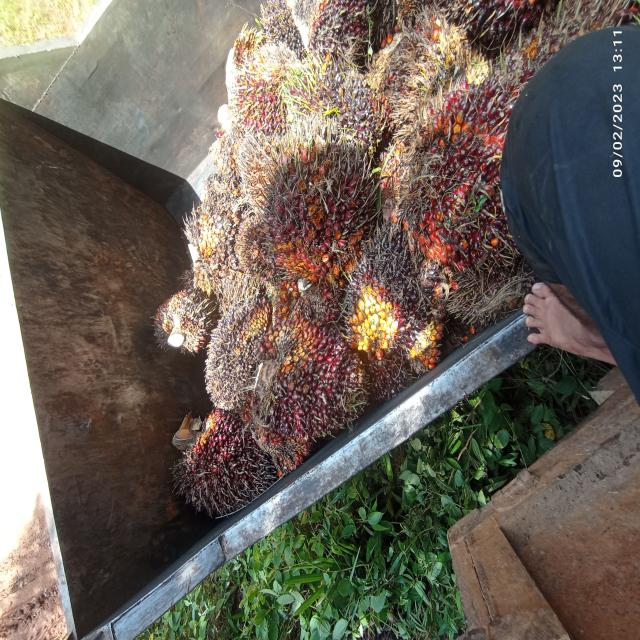fraksi 00: (345, 212, 455, 374), (189, 290, 281, 412), (294, 56, 387, 146), (309, 0, 385, 69), (178, 198, 241, 274), (260, 0, 303, 65)
fraksi 1: (372, 78, 534, 284), (165, 400, 276, 527), (254, 310, 357, 446), (229, 34, 302, 138)
fraksi 3: (251, 133, 374, 284)
